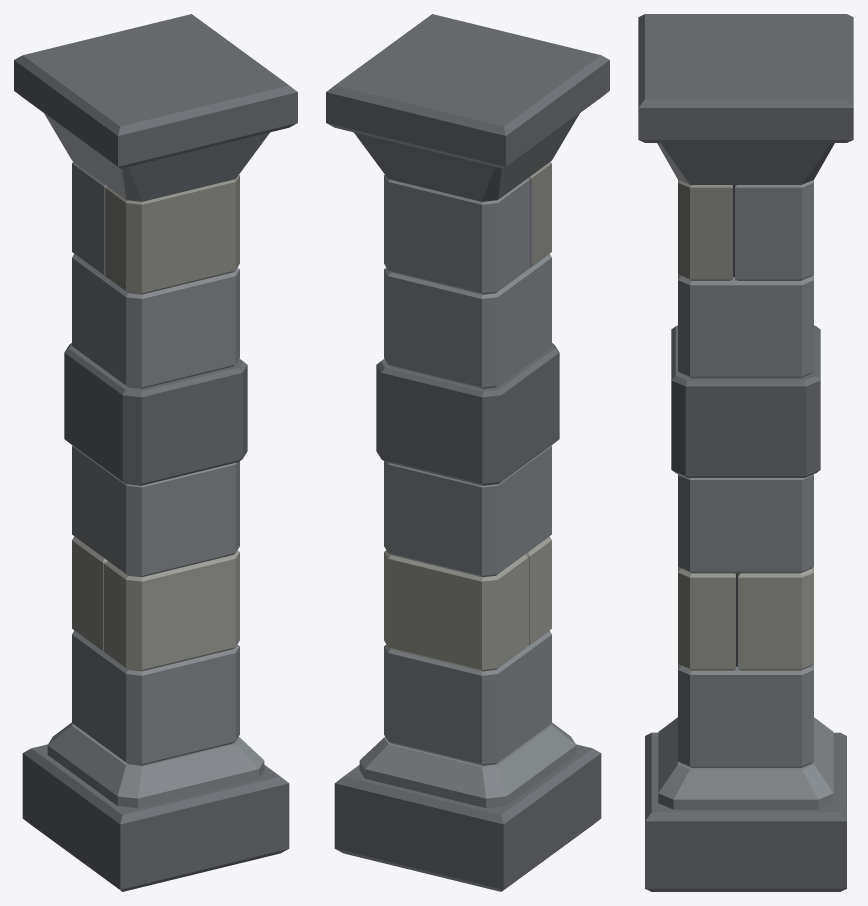
Rendered from SM_LPD_Struct_PillarSquare_01.fbx.
3 views of the same model, side by side, from view 1: azimuth 30°, elevation 25°; view 2: azimuth 150°, elevation 25°; view 3: azimuth 270°, elevation 25° (orthographic). The views are drawn at different scales.
Parts seen in each view (by area): view 1: SM_LPD_Struct_PillarSquare_01; view 2: SM_LPD_Struct_PillarSquare_01; view 3: SM_LPD_Struct_PillarSquare_01.
Boxes of the visible parts, <box> form: SM_LPD_Struct_PillarSquare_01: <box>14,14,297,891</box>; SM_LPD_Struct_PillarSquare_01: <box>326,14,609,891</box>; SM_LPD_Struct_PillarSquare_01: <box>638,14,853,891</box>.
Size of the model in its own units: 0.98 by 4 by 0.98.
